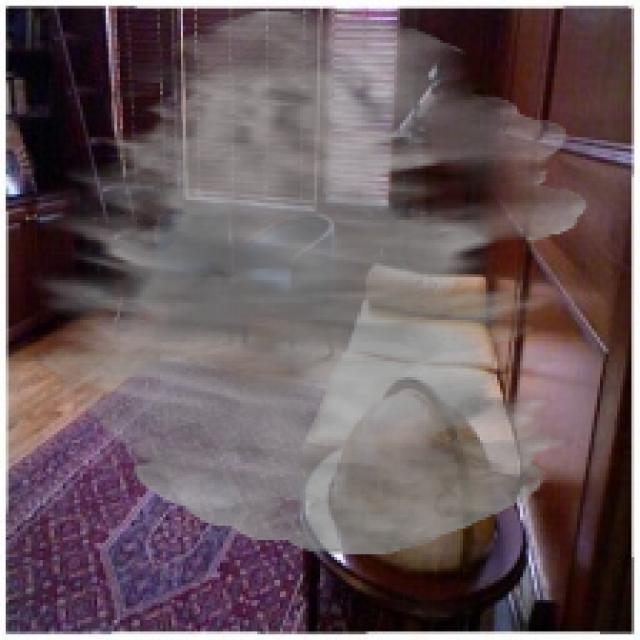Smoke: (31, 8, 588, 554)
